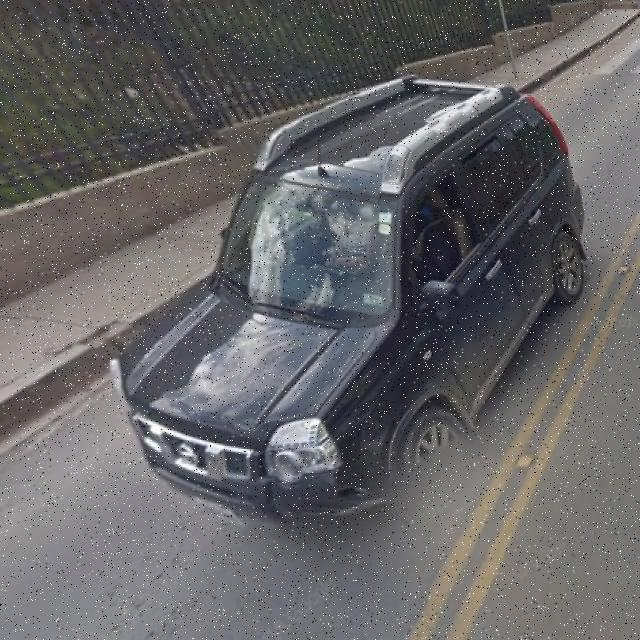cars: (132, 86, 593, 519)
